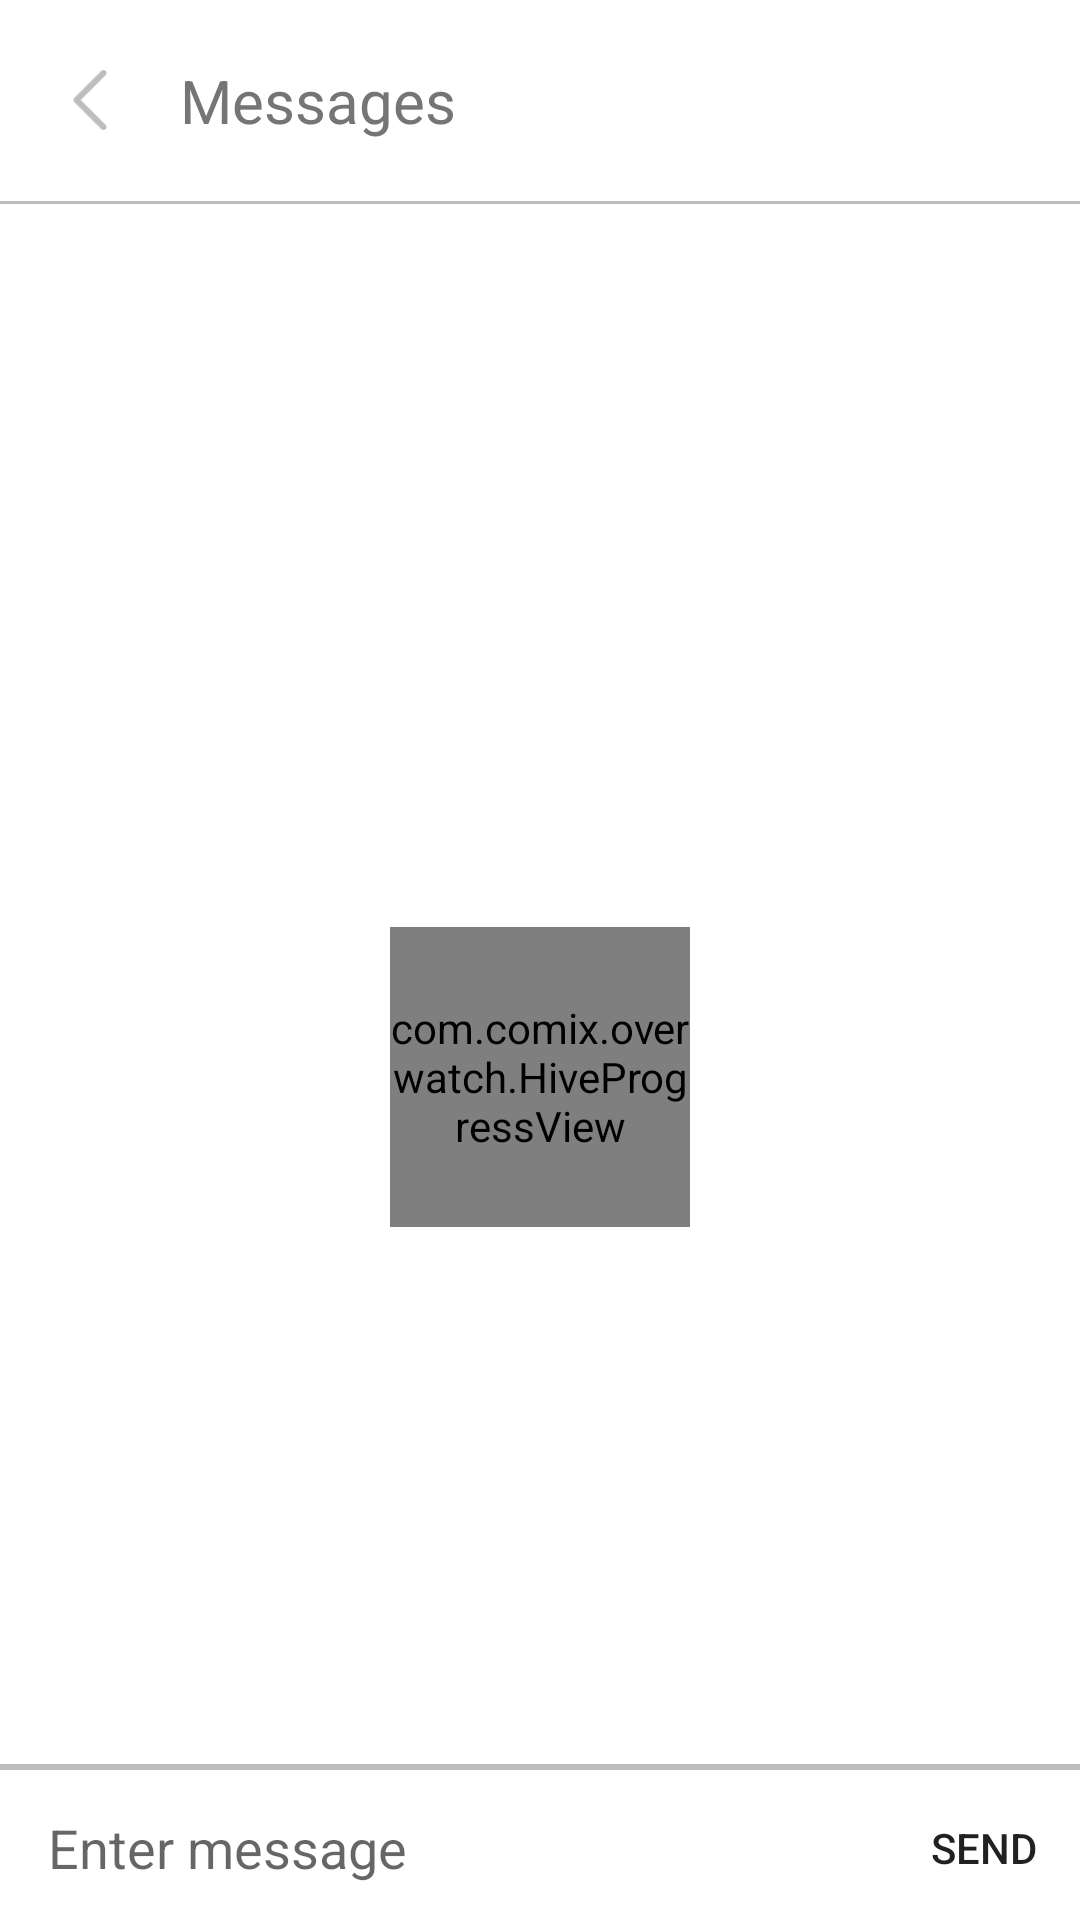

Where icons sit on this 1080 x 1920 app screen, as region(x1, y1, x2, y2):
backicon: region(73, 70, 107, 130)
